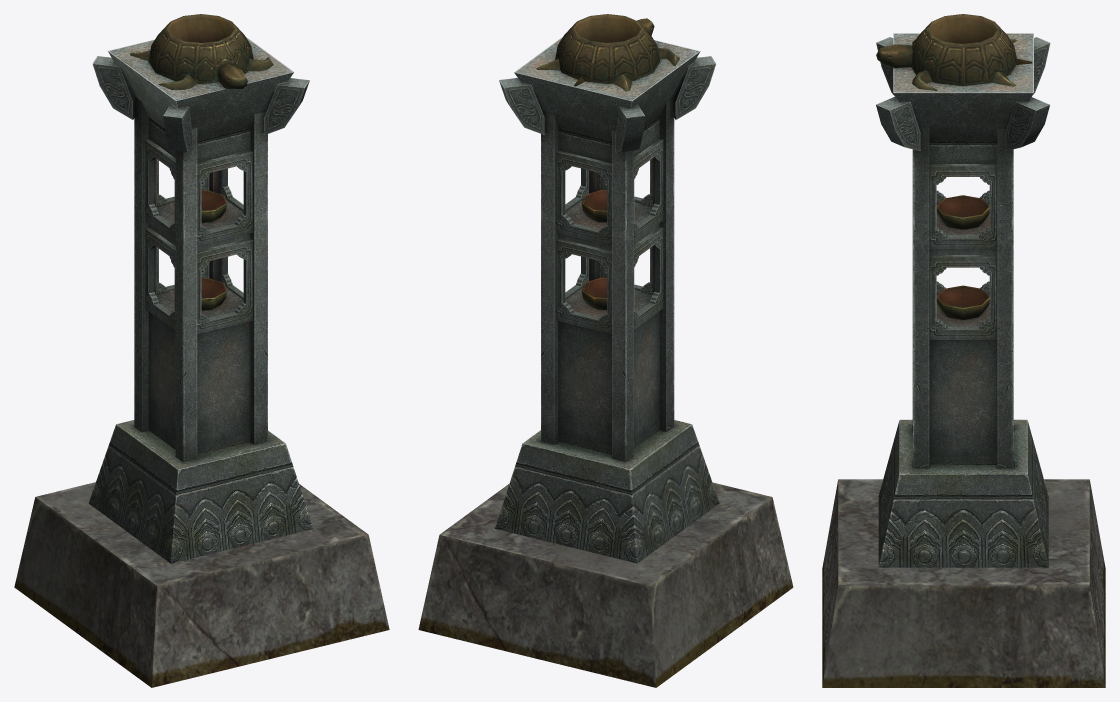
Rendered from fortms_light.fbx.
3 views of the same model, side by side, from view 1: azimuth 30°, elevation 25°; view 2: azimuth 150°, elevation 25°; view 3: azimuth 270°, elevation 25° (orthographic). The views are drawn at different scales.
Visible parts, largest first — view 1: fortMS_light, fortMS_light_supprt; view 2: fortMS_light, fortMS_light_supprt; view 3: fortMS_light, fortMS_light_supprt.
Boxes of the visible parts, x1=… form: fortMS_light: x1=88, y1=14, x2=313, y2=563; fortMS_light_supprt: x1=14, y1=482, x2=389, y2=687; fortMS_light: x1=495, y1=14, x2=719, y2=563; fortMS_light_supprt: x1=418, y1=482, x2=793, y2=687; fortMS_light: x1=876, y1=14, x2=1050, y2=567; fortMS_light_supprt: x1=822, y1=479, x2=1105, y2=687.
Size of the model in its own units: 3.61 by 8.41 by 3.61.
